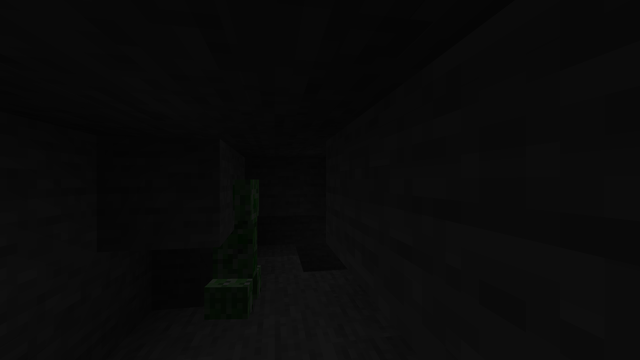creepers: (205, 173, 260, 317)
